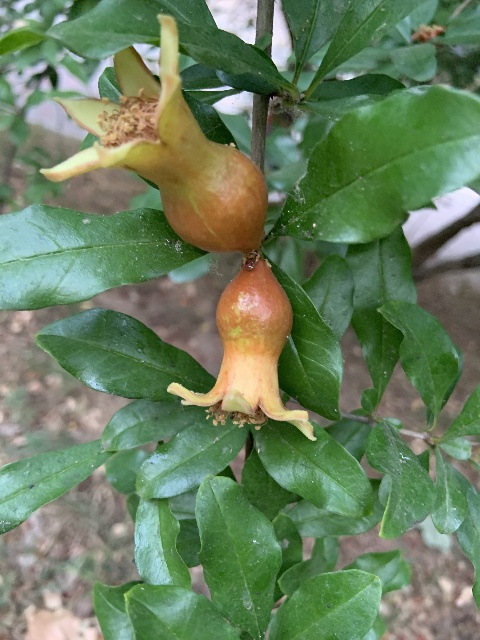early-fruit: (41, 16, 266, 253), (166, 258, 316, 437)
